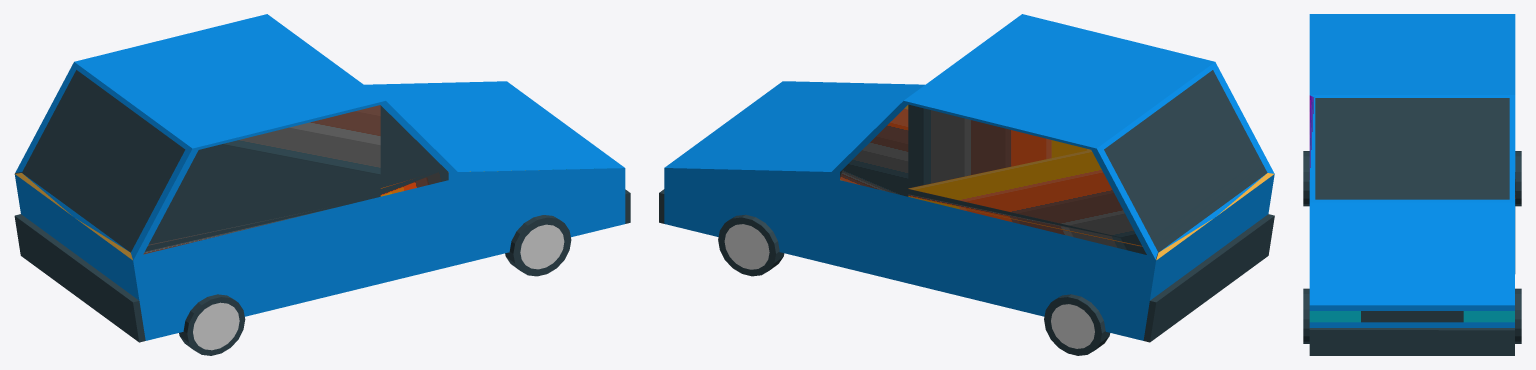
File: car_3_2.dae
3 renders of one model, left to right at view 1: azimuth 30°, elevation 25°; view 2: azimuth 150°, elevation 25°; view 3: azimuth 270°, elevation 25°, orthographic. The views are drawn at different scales.
Visible parts, largest first — view 1: CAR_03_1.001; view 2: CAR_03_1.001; view 3: CAR_03_1.001.
Part boxes in pixels (x1,y1,x2,y2): CAR_03_1.001: [14, 14, 630, 355]; CAR_03_1.001: [659, 14, 1274, 355]; CAR_03_1.001: [1303, 14, 1521, 355].
Bounding box in the file's own units: 4.5 × 1.97 × 1.81.
1 material, 1 textured.
